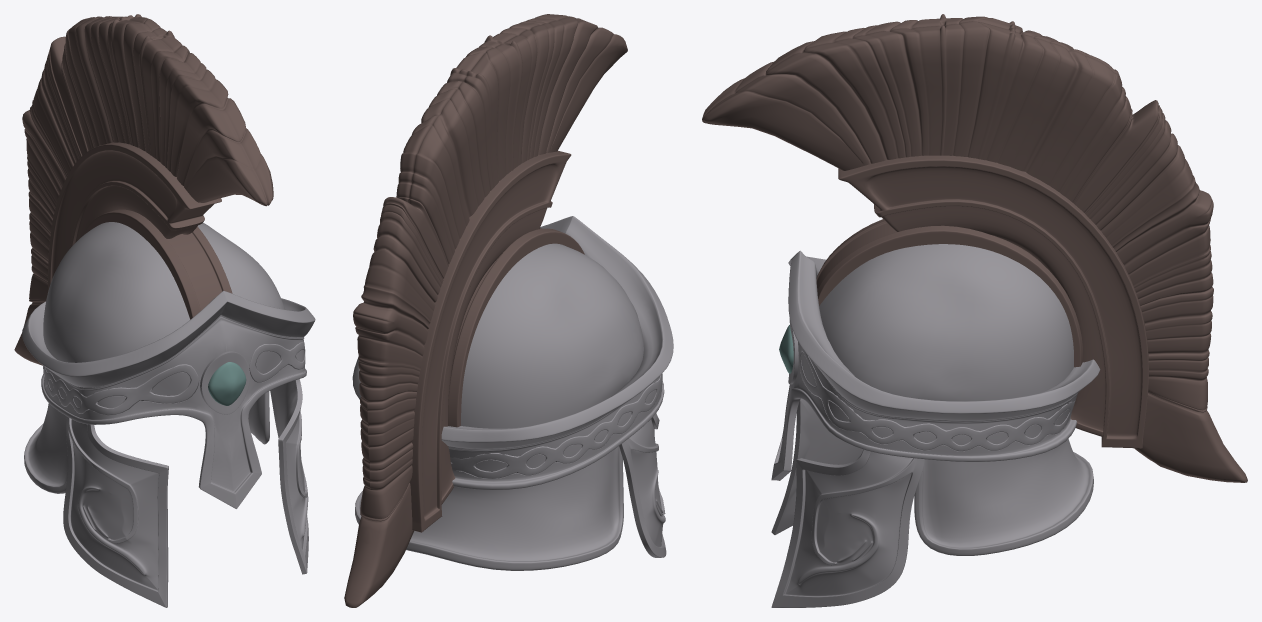
Rendered from High Poly Helmet (smoothed).fbx.
3 renders of one model, left to right at view 1: azimuth 30°, elevation 25°; view 2: azimuth 150°, elevation 25°; view 3: azimuth 270°, elevation 25°, orthographic. The views are drawn at different scales.
Visible parts, largest first — view 1: mohawk_geo, faceGuard_geo, helmetCap_geo, new_mono_cheek_geo, fin_geo, finMount_geo, knot_loops_geo, gemHousing_geo, gem_geo; view 2: mohawk_geo, helmetCap_geo, fin_geo, faceGuard_geo, finMount_geo, new_mono_cheek_geo, knot_loops_geo; view 3: mohawk_geo, helmetCap_geo, fin_geo, new_mono_cheek_geo, faceGuard_geo, finMount_geo, knot_loops_geo.
Part boxes in pixels (<box>): mohawk_geo: <box>14,14,273,365</box>; faceGuard_geo: <box>22,290,315,508</box>; helmetCap_geo: <box>24,222,284,493</box>; new_mono_cheek_geo: <box>63,379,308,607</box>; fin_geo: <box>48,142,221,291</box>; finMount_geo: <box>83,209,232,319</box>; knot_loops_geo: <box>43,341,305,415</box>; gemHousing_geo: <box>200,351,250,414</box>; gem_geo: <box>208,362,246,405</box>; mohawk_geo: <box>344,14,627,607</box>; helmetCap_geo: <box>355,243,643,570</box>; fin_geo: <box>409,150,571,532</box>; faceGuard_geo: <box>352,216,673,489</box>; finMount_geo: <box>448,228,584,427</box>; new_mono_cheek_geo: <box>619,413,666,557</box>; knot_loops_geo: <box>450,373,662,478</box>; mohawk_geo: <box>702,14,1247,482</box>; helmetCap_geo: <box>819,244,1093,555</box>; fin_geo: <box>838,155,1148,448</box>; new_mono_cheek_geo: <box>771,398,924,607</box>; faceGuard_geo: <box>771,250,1100,480</box>; finMount_geo: <box>816,219,1082,367</box>; knot_loops_geo: <box>798,345,1076,451</box>.
Size of the model in its own units: 16.63 by 32.15 by 28.84.
